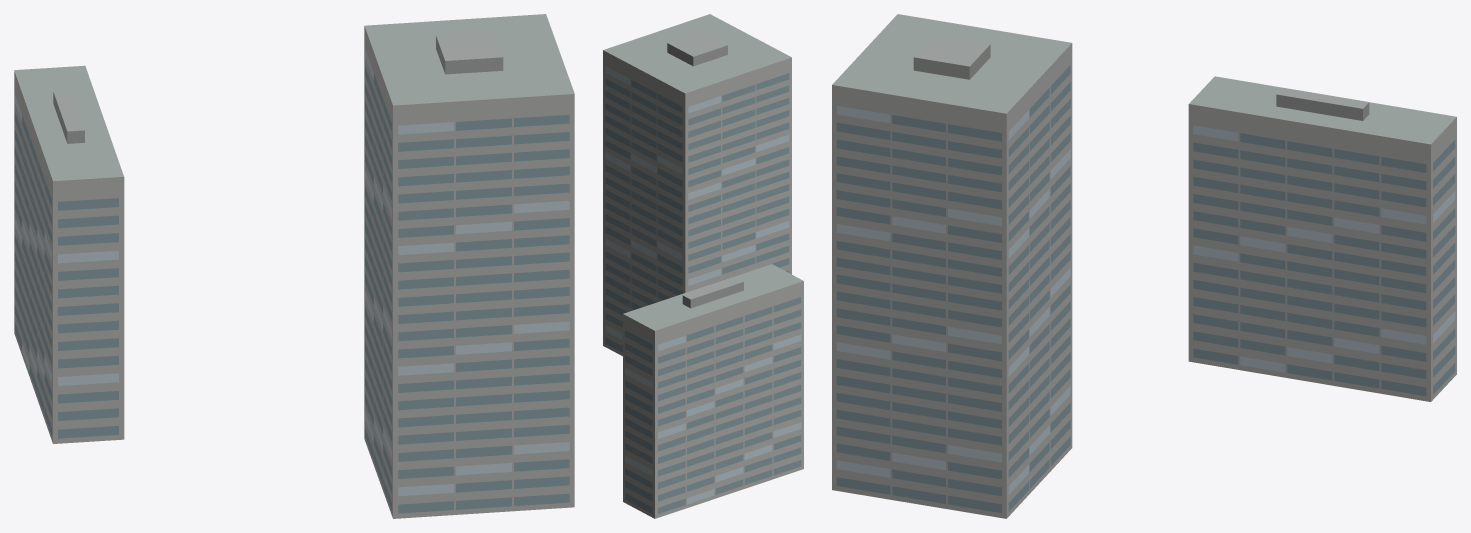
Rendered from apt-a13487102.glb.
3 renders of one model, left to right at view 1: azimuth 30°, elevation 25°; view 2: azimuth 150°, elevation 25°; view 3: azimuth 270°, elevation 25°, orthographic. The views are drawn at different scales.
Parts seen in each view (by area): view 1: apt-a13487102; view 2: apt-a13487102; view 3: apt-a13487102.
Part boxes in pixels (x1,y1,x2,y2): apt-a13487102: [14, 14, 574, 518]; apt-a13487102: [603, 14, 803, 518]; apt-a13487102: [832, 14, 1456, 518].
Size of the model in its own units: 72.08 by 76 by 103.
